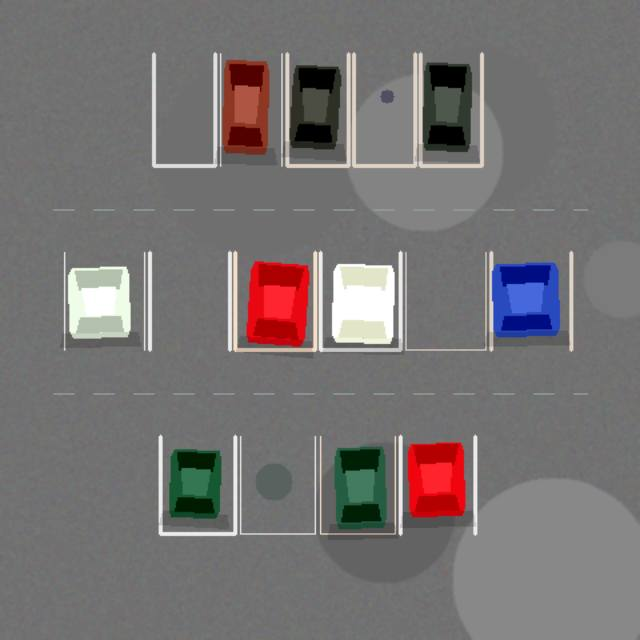space-empty: (149, 252, 229, 349), (405, 252, 485, 349), (240, 436, 315, 533), (153, 53, 215, 165), (353, 53, 415, 165)
space-occupied: (64, 252, 144, 349), (235, 252, 315, 349), (320, 252, 400, 349), (491, 252, 571, 349), (160, 436, 235, 533), (320, 436, 395, 533), (400, 436, 475, 533), (220, 53, 281, 165), (287, 53, 348, 165), (420, 53, 481, 165)
